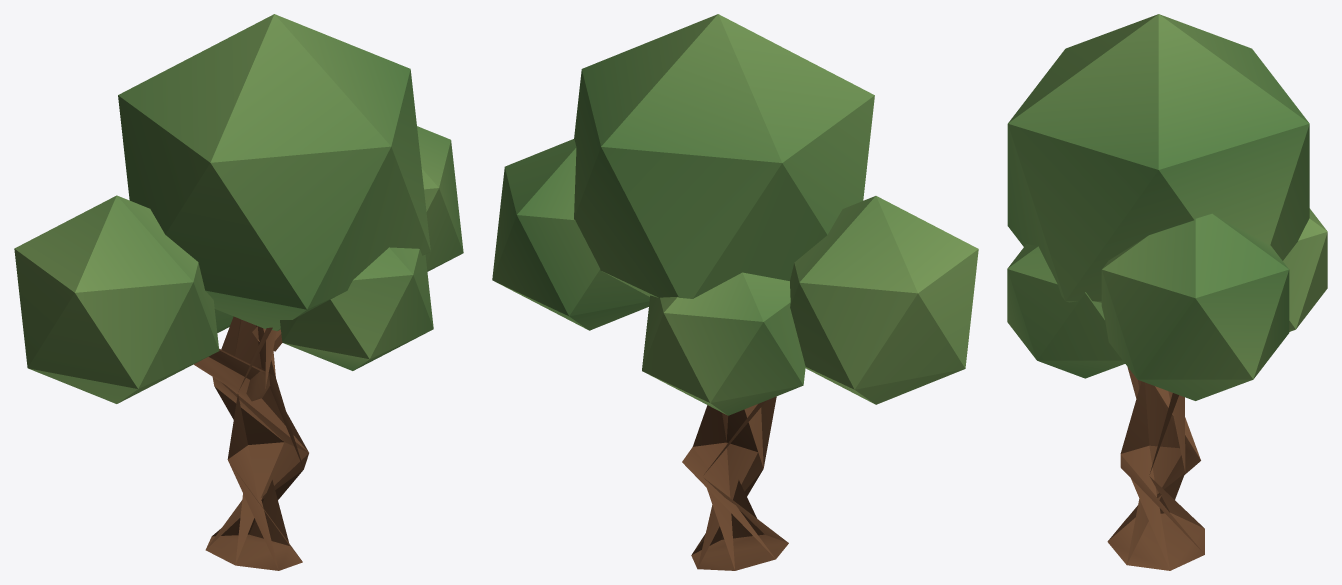
Rendered from forest_oak.glb.
3 views of the same model, side by side, from view 1: azimuth 30°, elevation 25°; view 2: azimuth 150°, elevation 25°; view 3: azimuth 270°, elevation 25° (orthographic).
Parts seen in each view (by area): view 1: Oak; view 2: Oak; view 3: Oak.
Part boxes in pixels (x1,y1,x2,y2): Oak: (14, 14, 463, 570); Oak: (492, 14, 978, 570); Oak: (1007, 14, 1327, 570).
Size of the model in its own units: 4.2 by 4.93 by 2.62.
